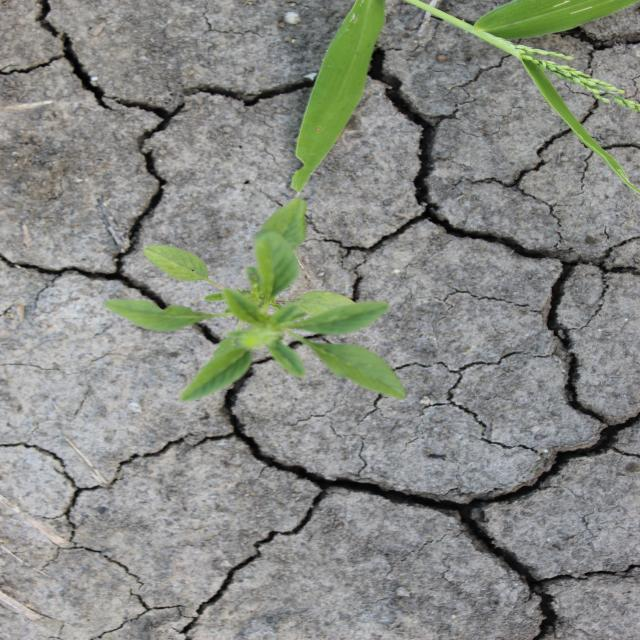Waterhemp: (100, 195, 410, 404)
